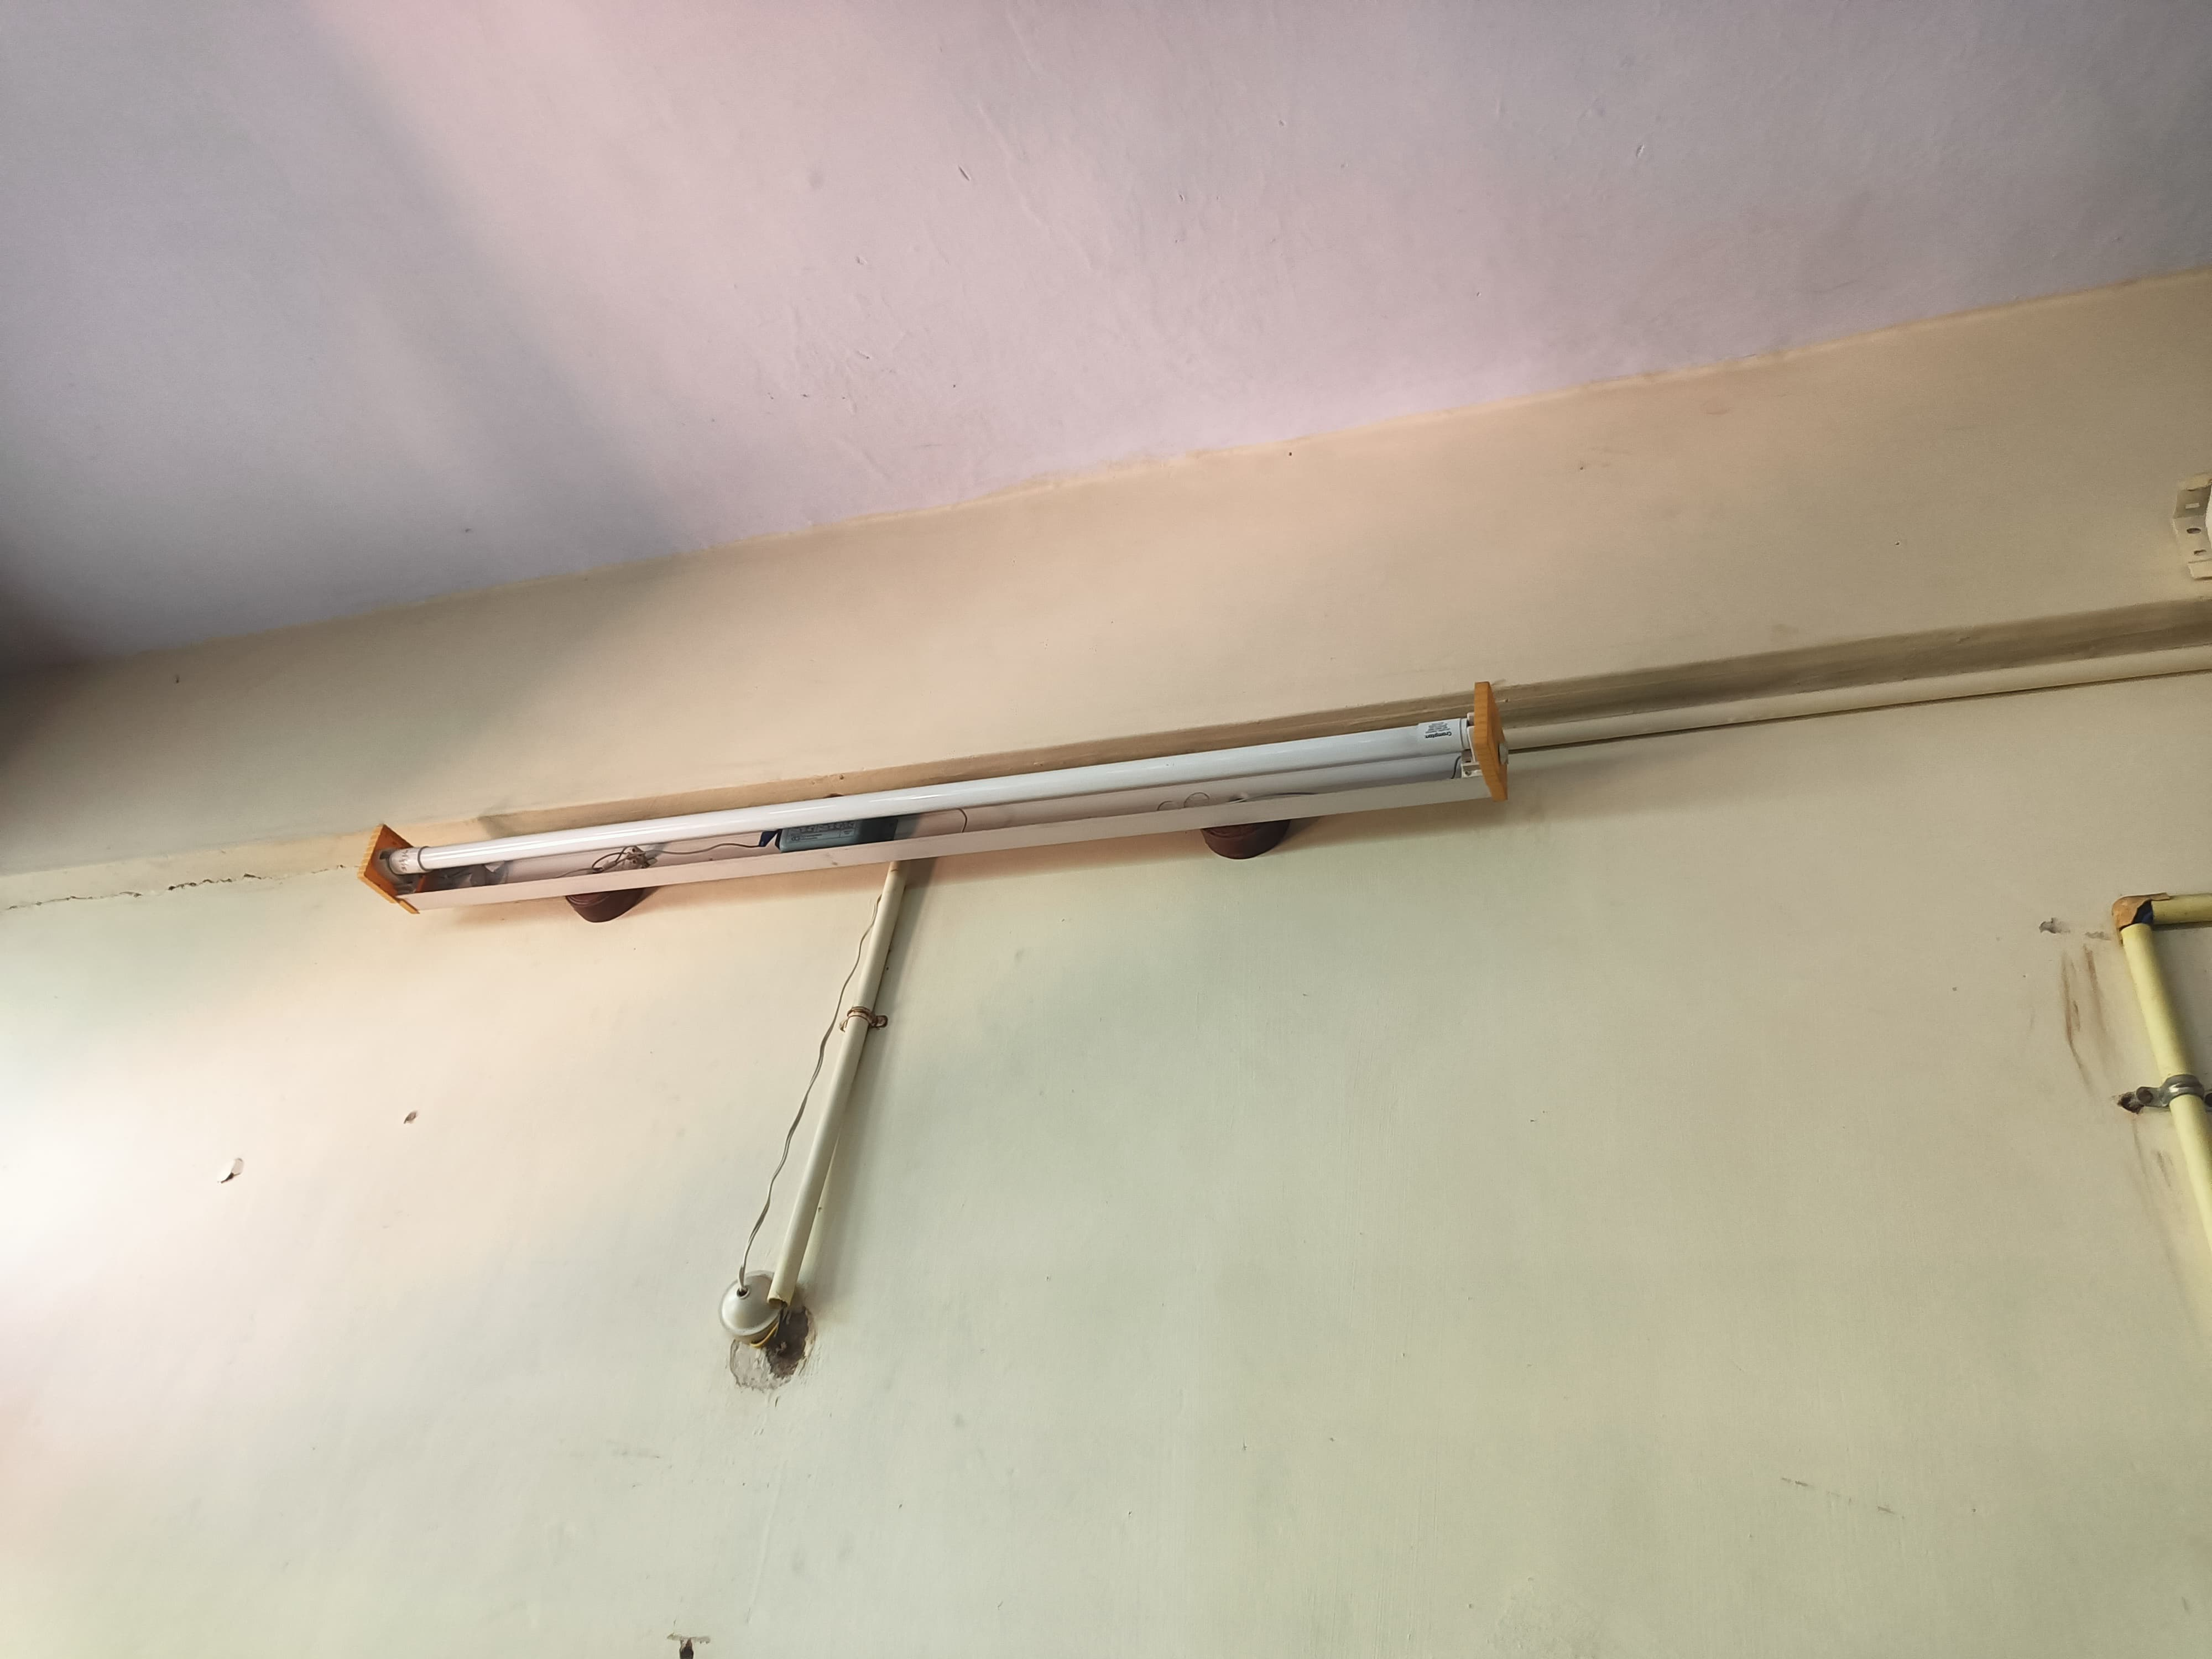TubeLight: (345, 688, 1519, 915)
